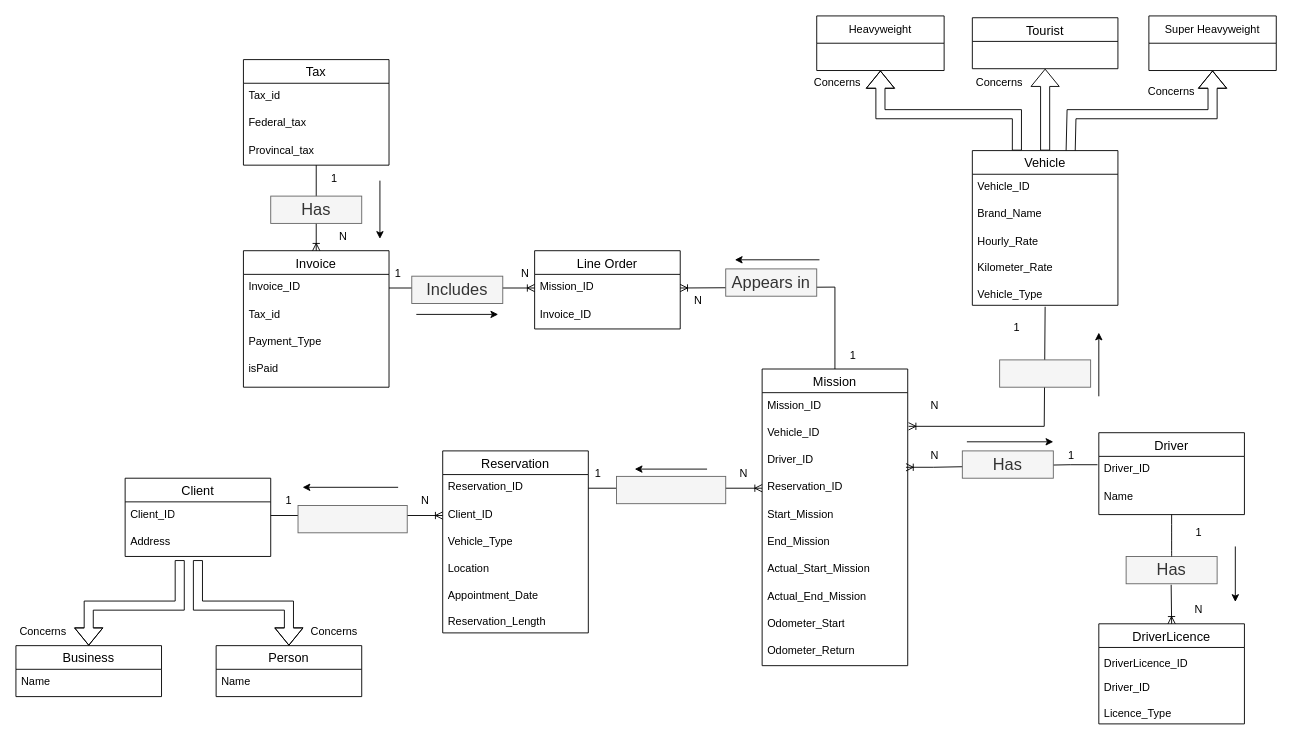
The diagram is 1292 pixels wide and 743 high, and some of its shapes have lost their labels. Each missing label, with the centre of its shape:
"Is assigned" goes at (x=1045, y=373).
"Made from" goes at (x=671, y=489).
"Requested by" goes at (x=352, y=519).
